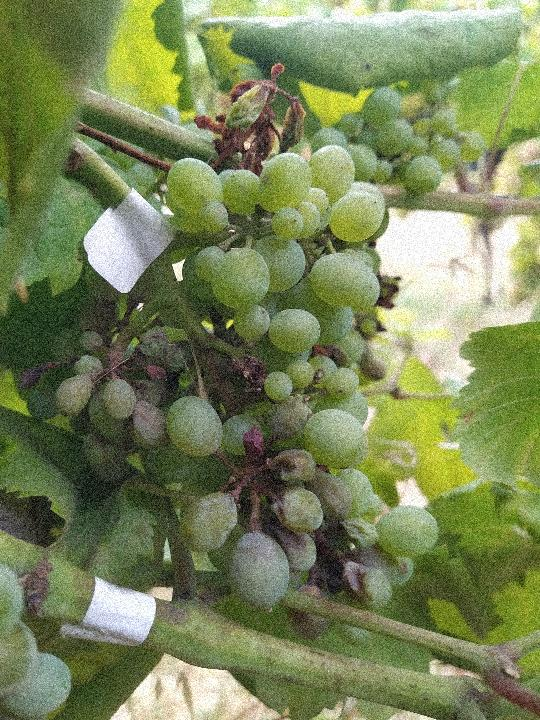grape: (52, 138, 444, 616)
